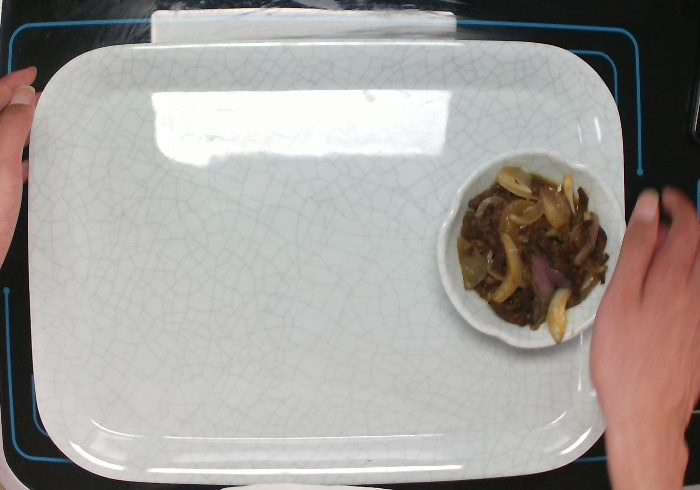JYsf-Ao_Yuan_Wan: (435, 146, 628, 350)
